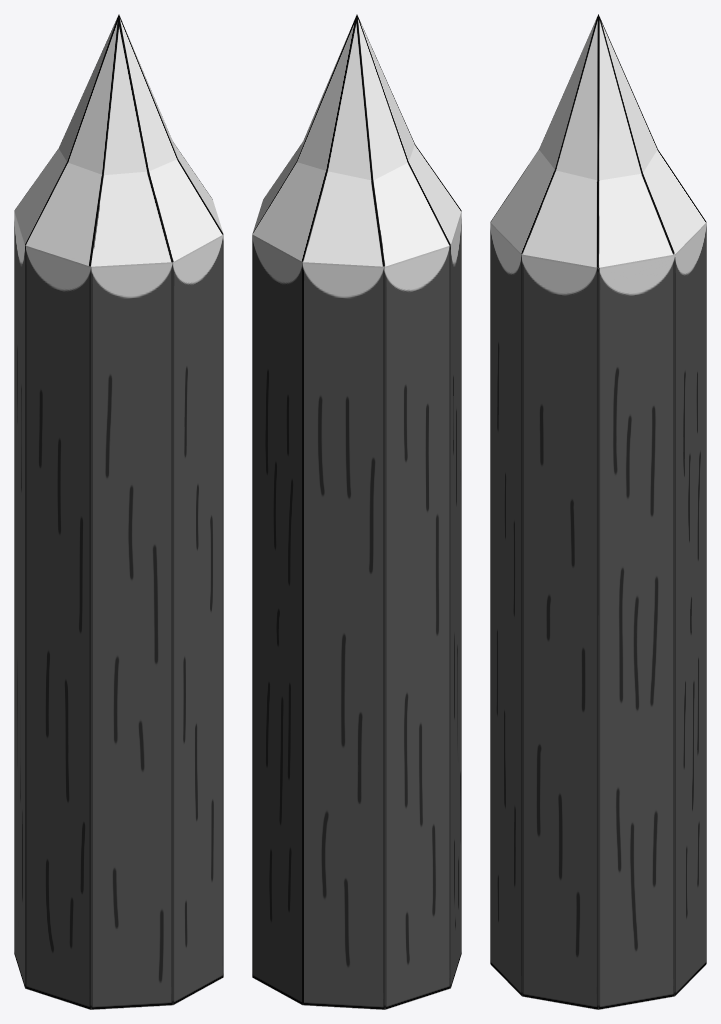
Rendered from WoodFence1.fbx.
3 renders of one model, left to right at view 1: azimuth 30°, elevation 25°; view 2: azimuth 150°, elevation 25°; view 3: azimuth 270°, elevation 25°, orthographic.
Parts seen in each view (by area): view 1: Cylinder; view 2: Cylinder; view 3: Cylinder.
Boxes of the visible parts, x1,y1,x2,y2 form: Cylinder: (14, 14, 223, 1009); Cylinder: (252, 14, 461, 1009); Cylinder: (490, 14, 706, 1009).
Size of the model in its own units: 55.72 by 270 by 55.72.
